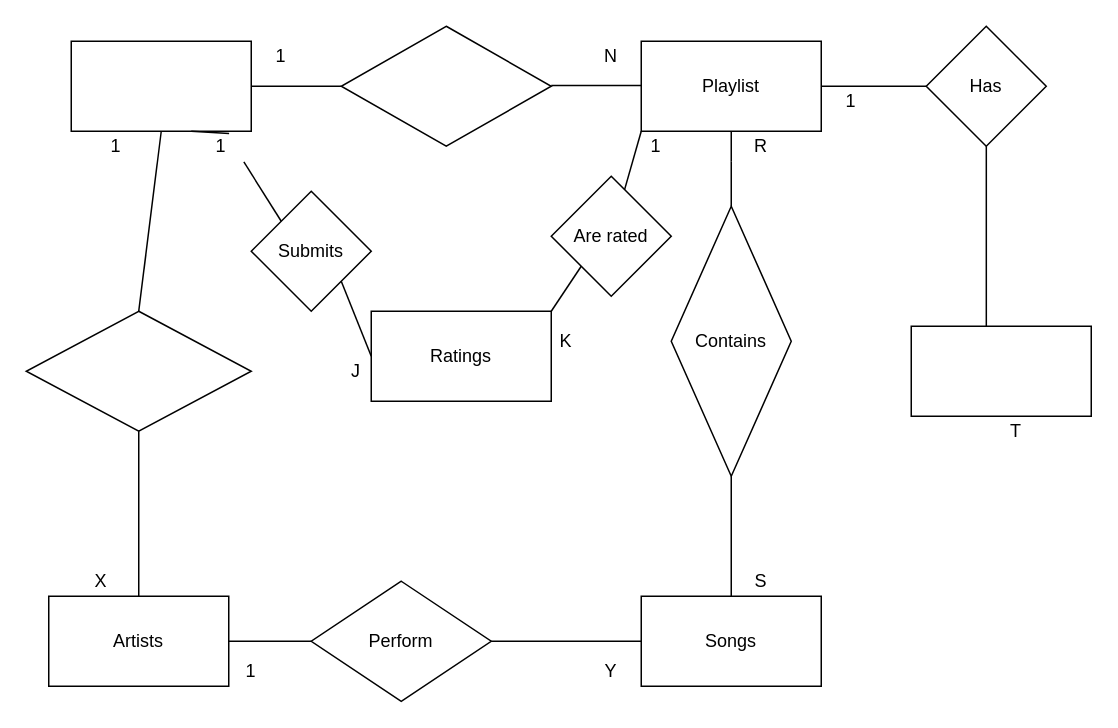
Image size: 1118x728. Some labels were removed from this diagram. Here are the shapes that lost their labels. From the top down, the centre of each, then its label:
At (x=160, y=85): "User".
At (x=445, y=85): "Owns".
At (x=138, y=370): "Likes".
At (x=1000, y=370): "Tag (genre)".
